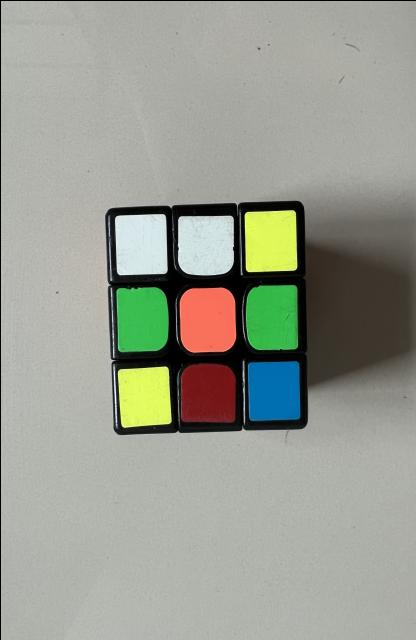Blue: (247, 360, 299, 420)
Green: (245, 284, 297, 349), (116, 286, 168, 351)
Orange: (179, 286, 235, 352)
Red: (180, 362, 235, 421)
White: (177, 215, 233, 275), (114, 212, 167, 274)
Yellow: (117, 365, 171, 428), (244, 209, 297, 271)
